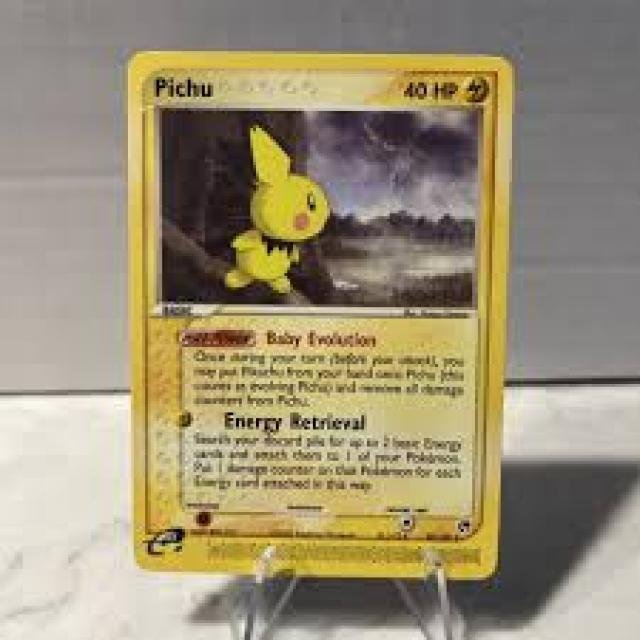pichu: (252, 100, 352, 320)
